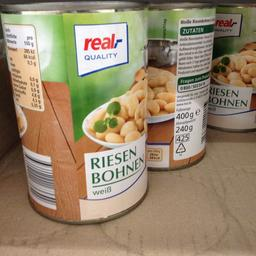beans: (2, 2, 148, 228), (152, 2, 213, 175), (215, 1, 255, 135)
